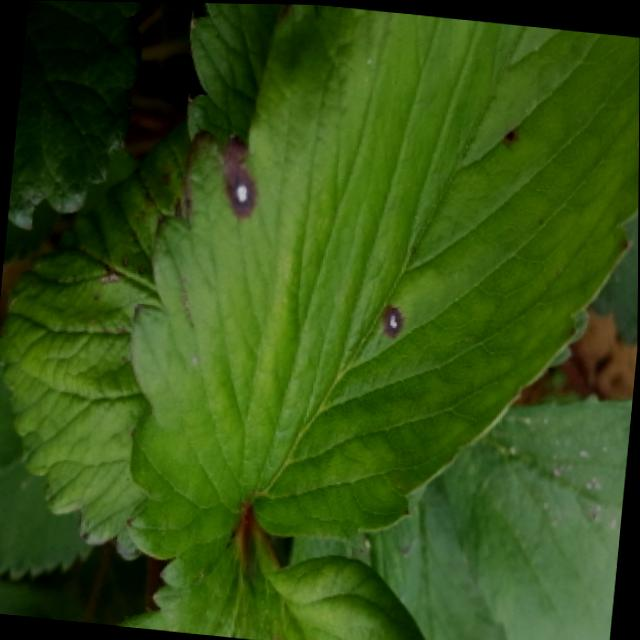Leaf Spot: (122, 3, 640, 560), (0, 110, 188, 562), (113, 525, 430, 640), (579, 213, 639, 346)
